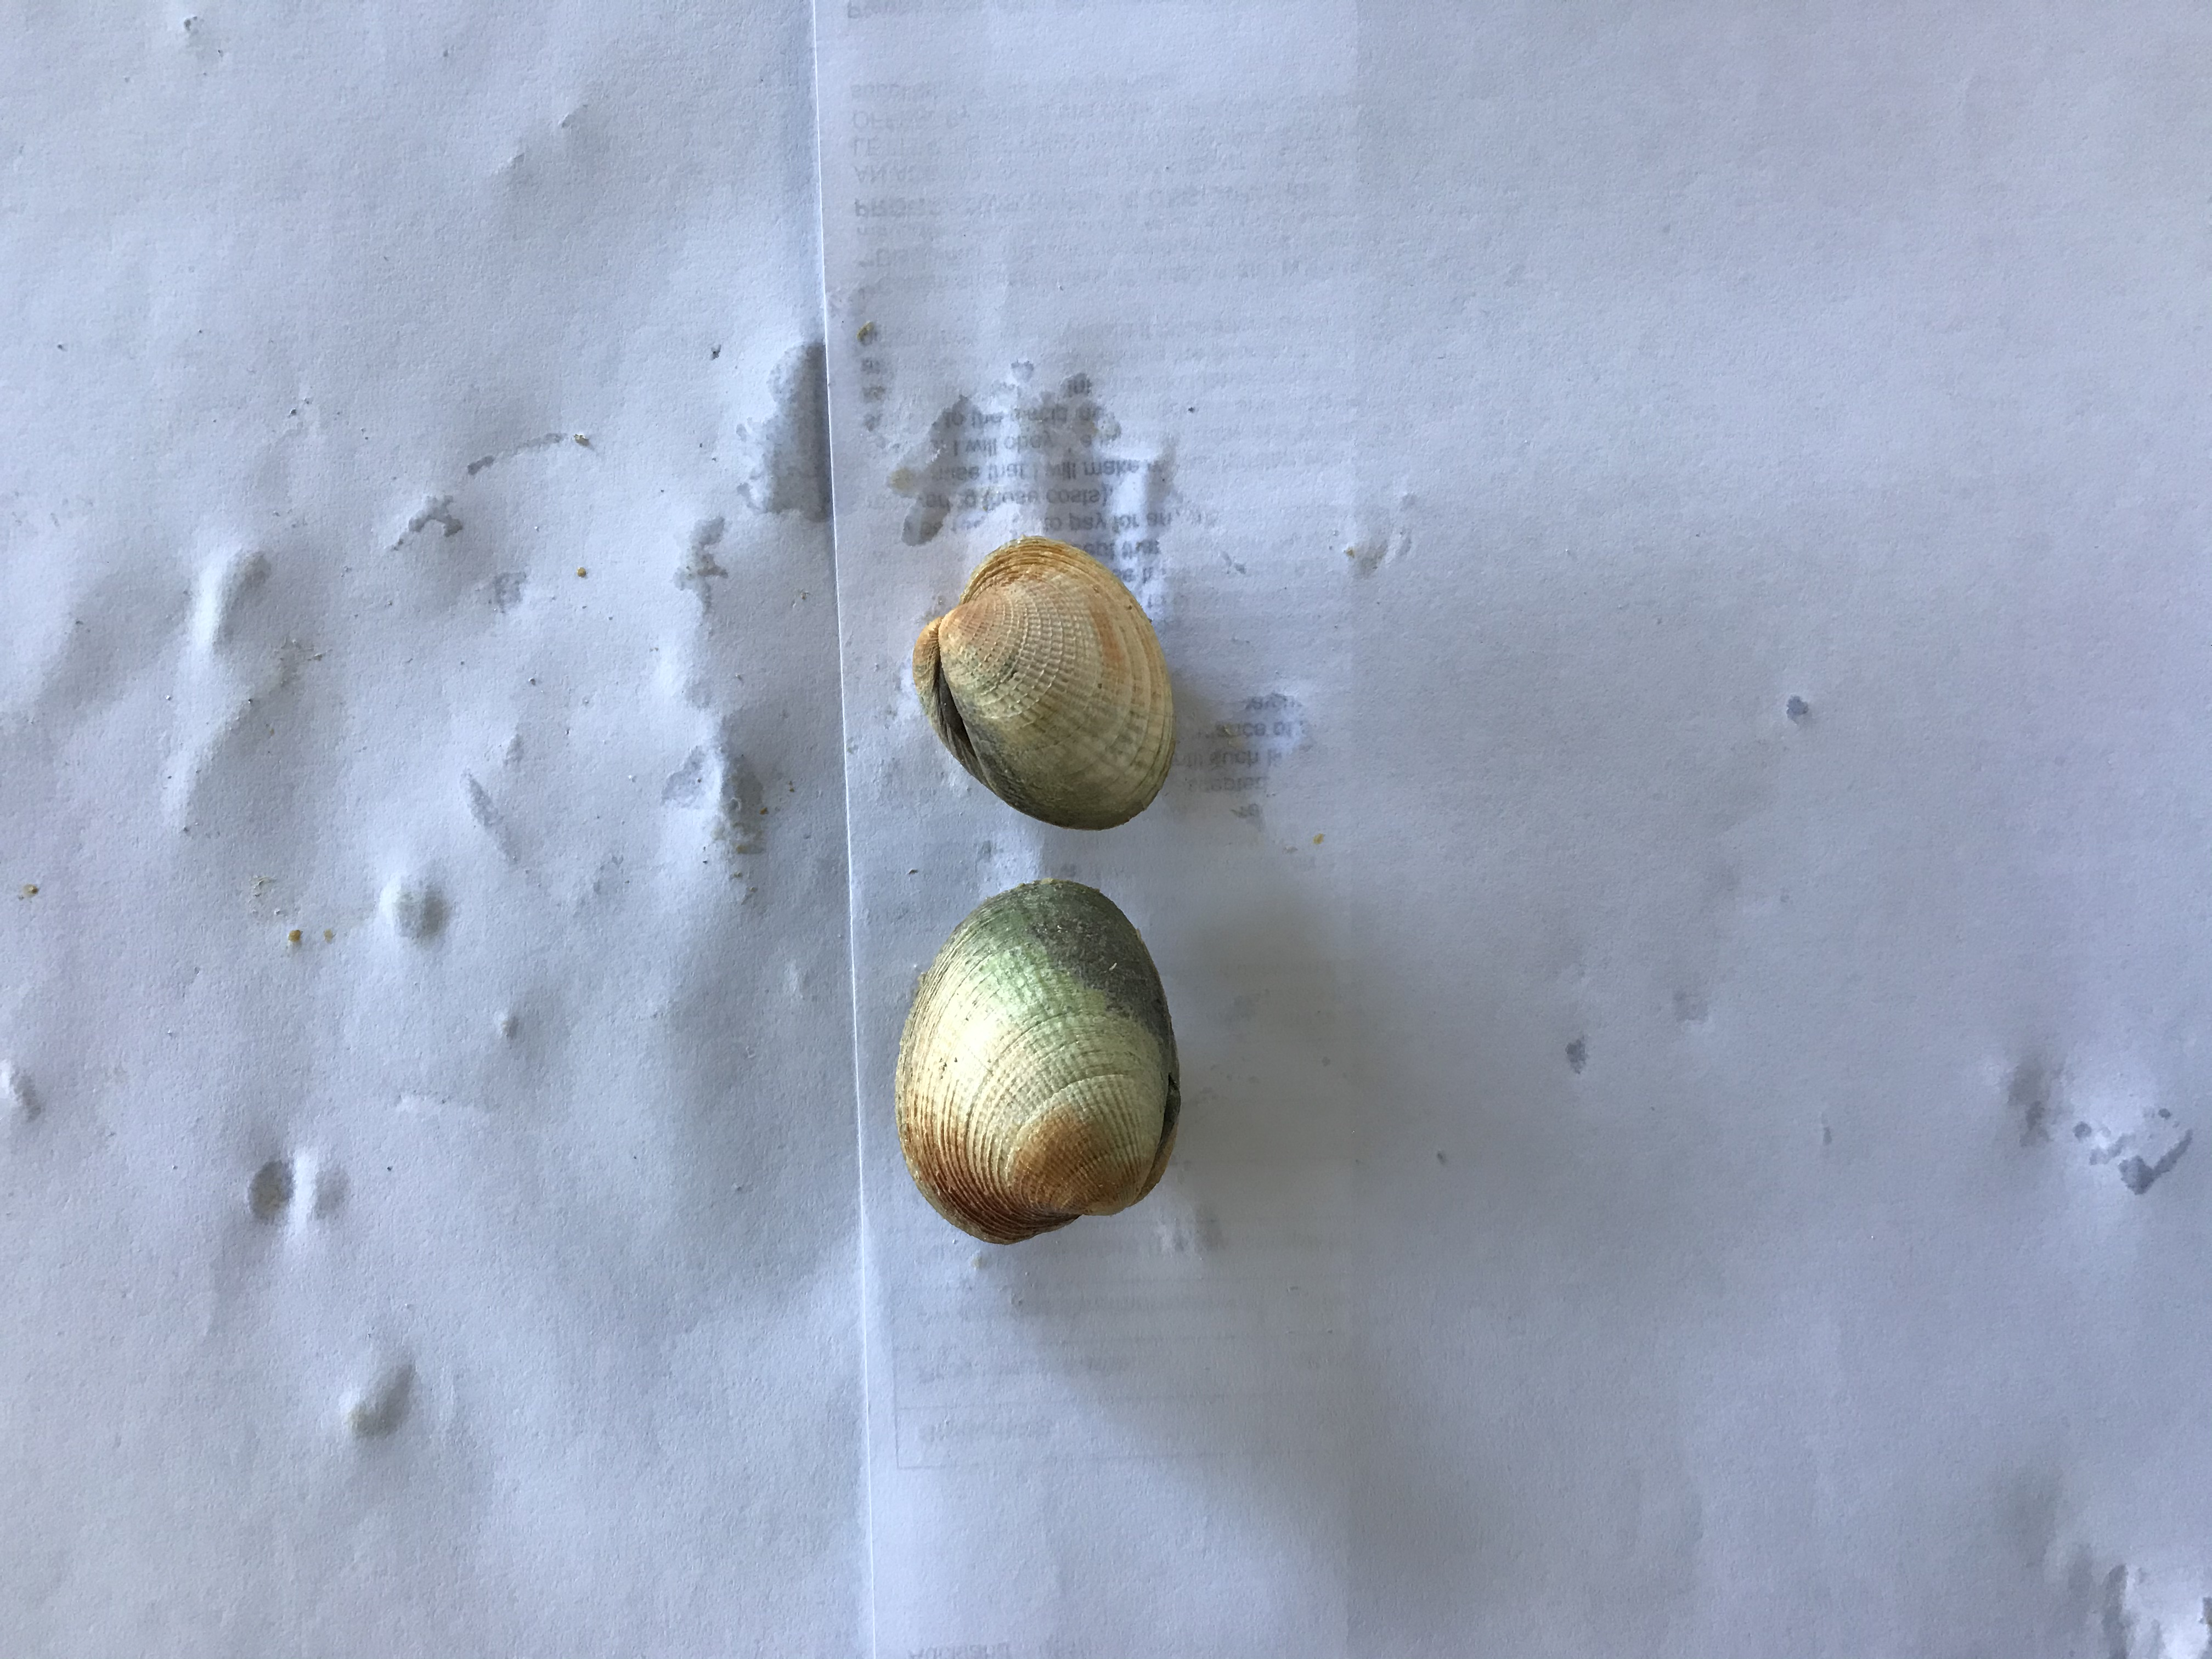cockle: (888, 870, 1184, 1256), (904, 532, 1195, 835)
